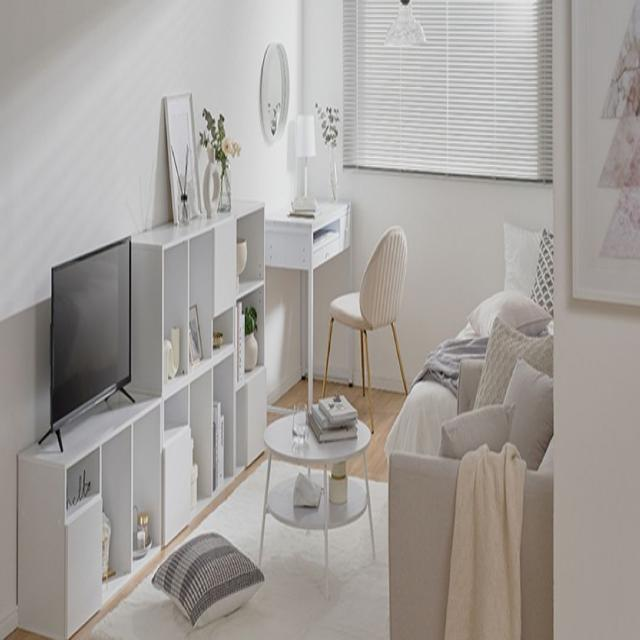white chair: (322, 227, 411, 402)
white desk: (266, 386, 370, 584)
white sofa: (378, 291, 545, 618)
